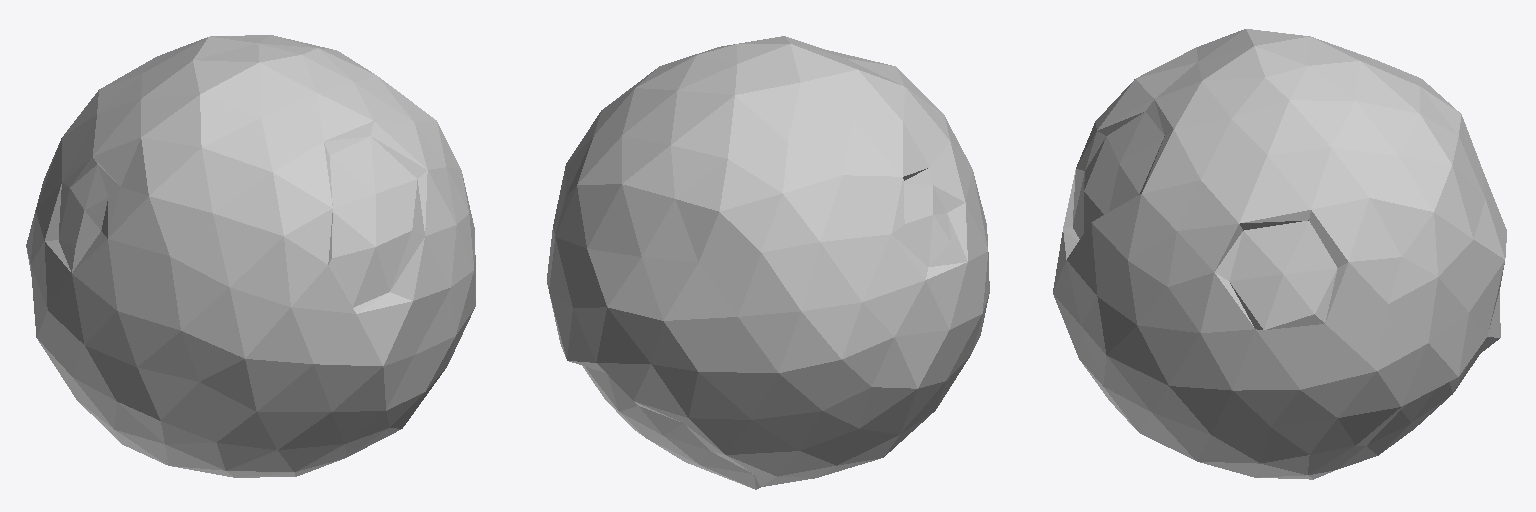
Rendered from mars.obj.
The picture shows the model from 3 angles: view 1: azimuth 30°, elevation 25°; view 2: azimuth 150°, elevation 25°; view 3: azimuth 270°, elevation 25°; orthographic projection.
Parts seen in each view (by area): view 1: Mars; view 2: Mars; view 3: Mars.
Part boxes in pixels (x1,y1,x2,y2): Mars: (26,35,475,477); Mars: (547,36,989,489); Mars: (1053,29,1506,479).
Size of the model in its own units: 2.01 by 2.02 by 2.03.